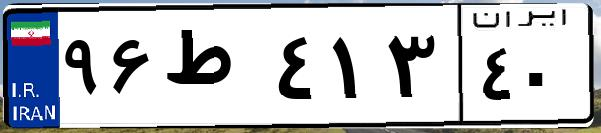0: (525, 38, 570, 115)
1: (330, 28, 385, 110)
3: (385, 28, 445, 110)
4: (270, 28, 330, 110), (475, 38, 525, 113)
6: (110, 28, 158, 98)
9: (57, 26, 110, 100)
ط: (158, 20, 270, 120)
